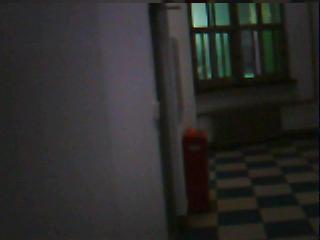oball: (189, 127, 197, 135)
